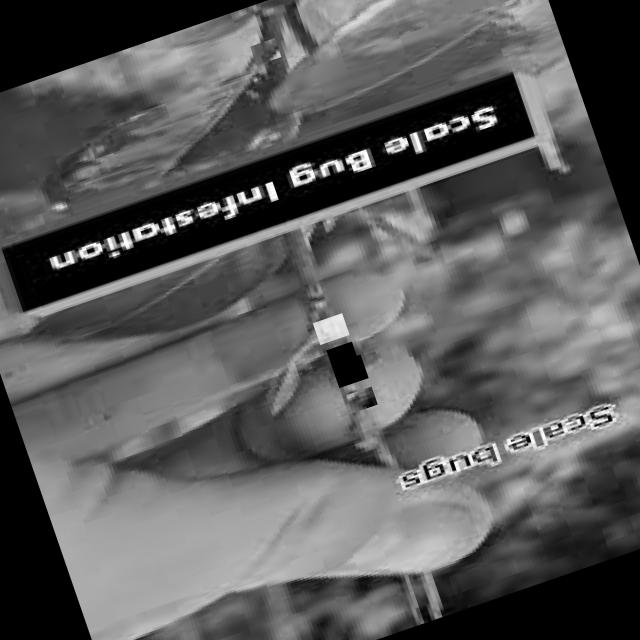scale_insect: (331, 353, 368, 388), (312, 312, 350, 344), (326, 341, 359, 372), (346, 386, 378, 413), (250, 37, 281, 64)
